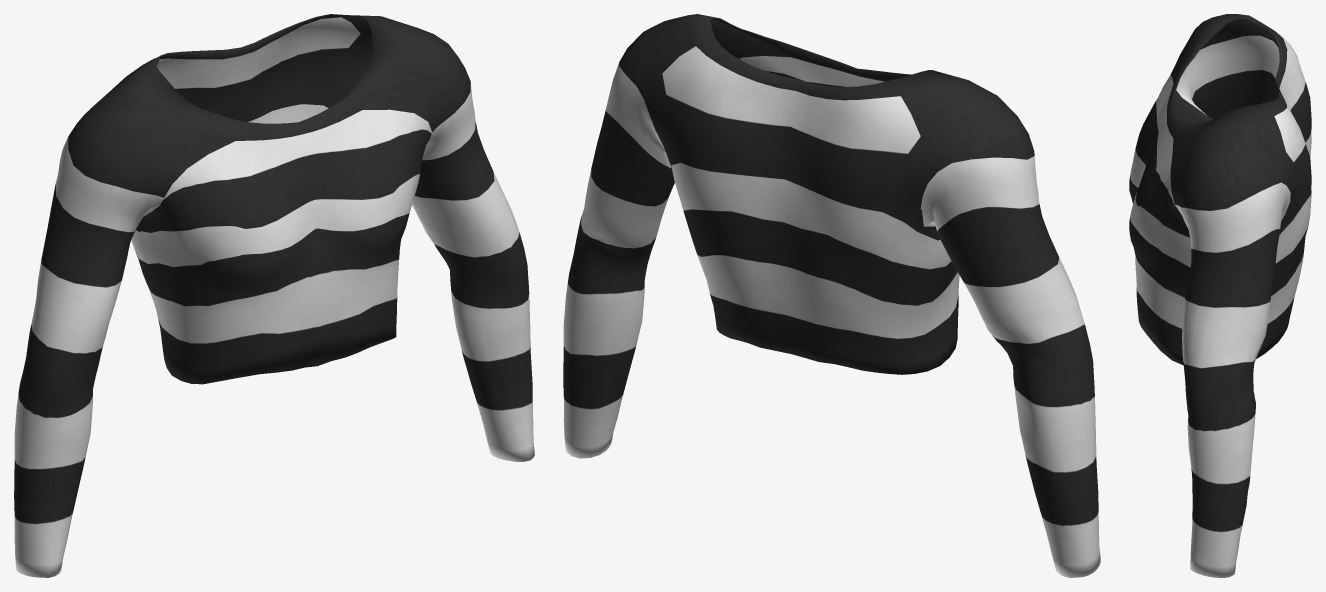
File: ews-striped-shirt.glb
3 views of the same model, side by side, from view 1: azimuth 30°, elevation 25°; view 2: azimuth 150°, elevation 25°; view 3: azimuth 270°, elevation 25° (orthographic). The views are drawn at different scales.
Visible parts, largest first — view 1: Human.ews_striped_shirt; view 2: Human.ews_striped_shirt; view 3: Human.ews_striped_shirt.
Boxes of the visible parts, x1,y1,x2,y2 form: Human.ews_striped_shirt: (14,14,534,577); Human.ews_striped_shirt: (563,14,1100,577); Human.ews_striped_shirt: (1129,14,1311,577).
Size of the model in its own units: 0.7151 by 0.617 by 0.2503.
Materials: 1 (1 with a texture image).
